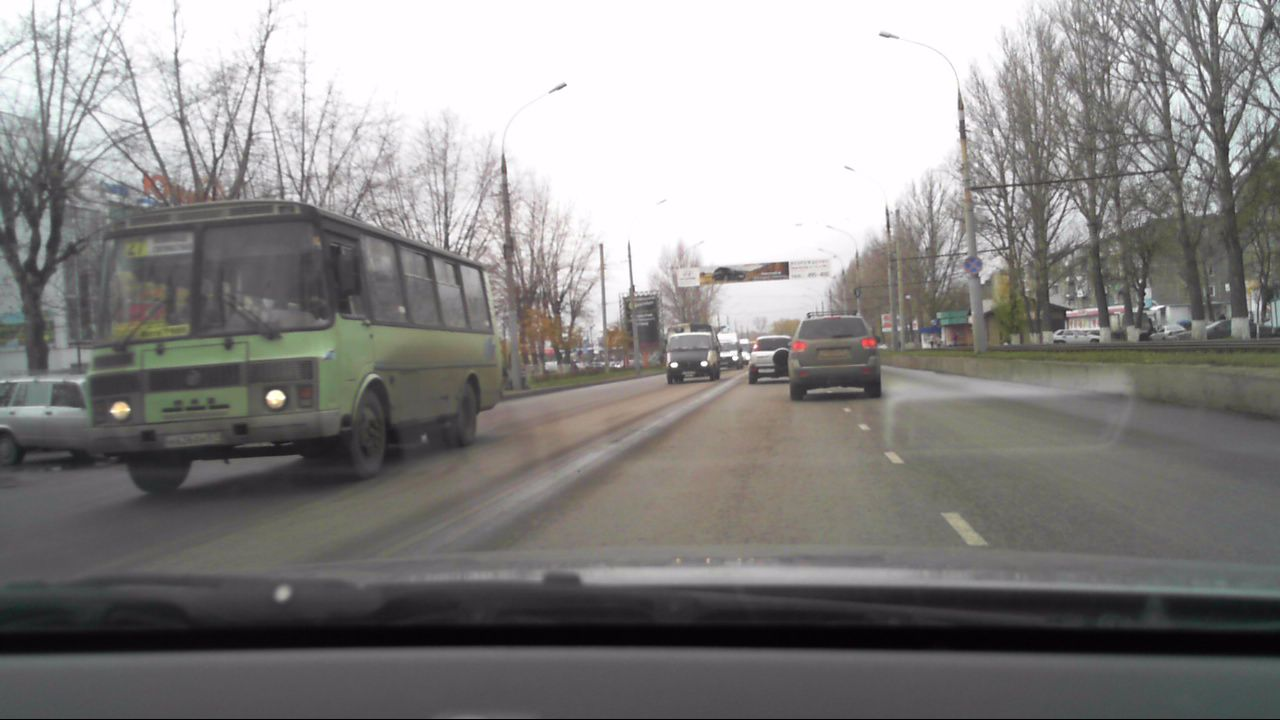No Parking: (964, 255, 984, 277)
